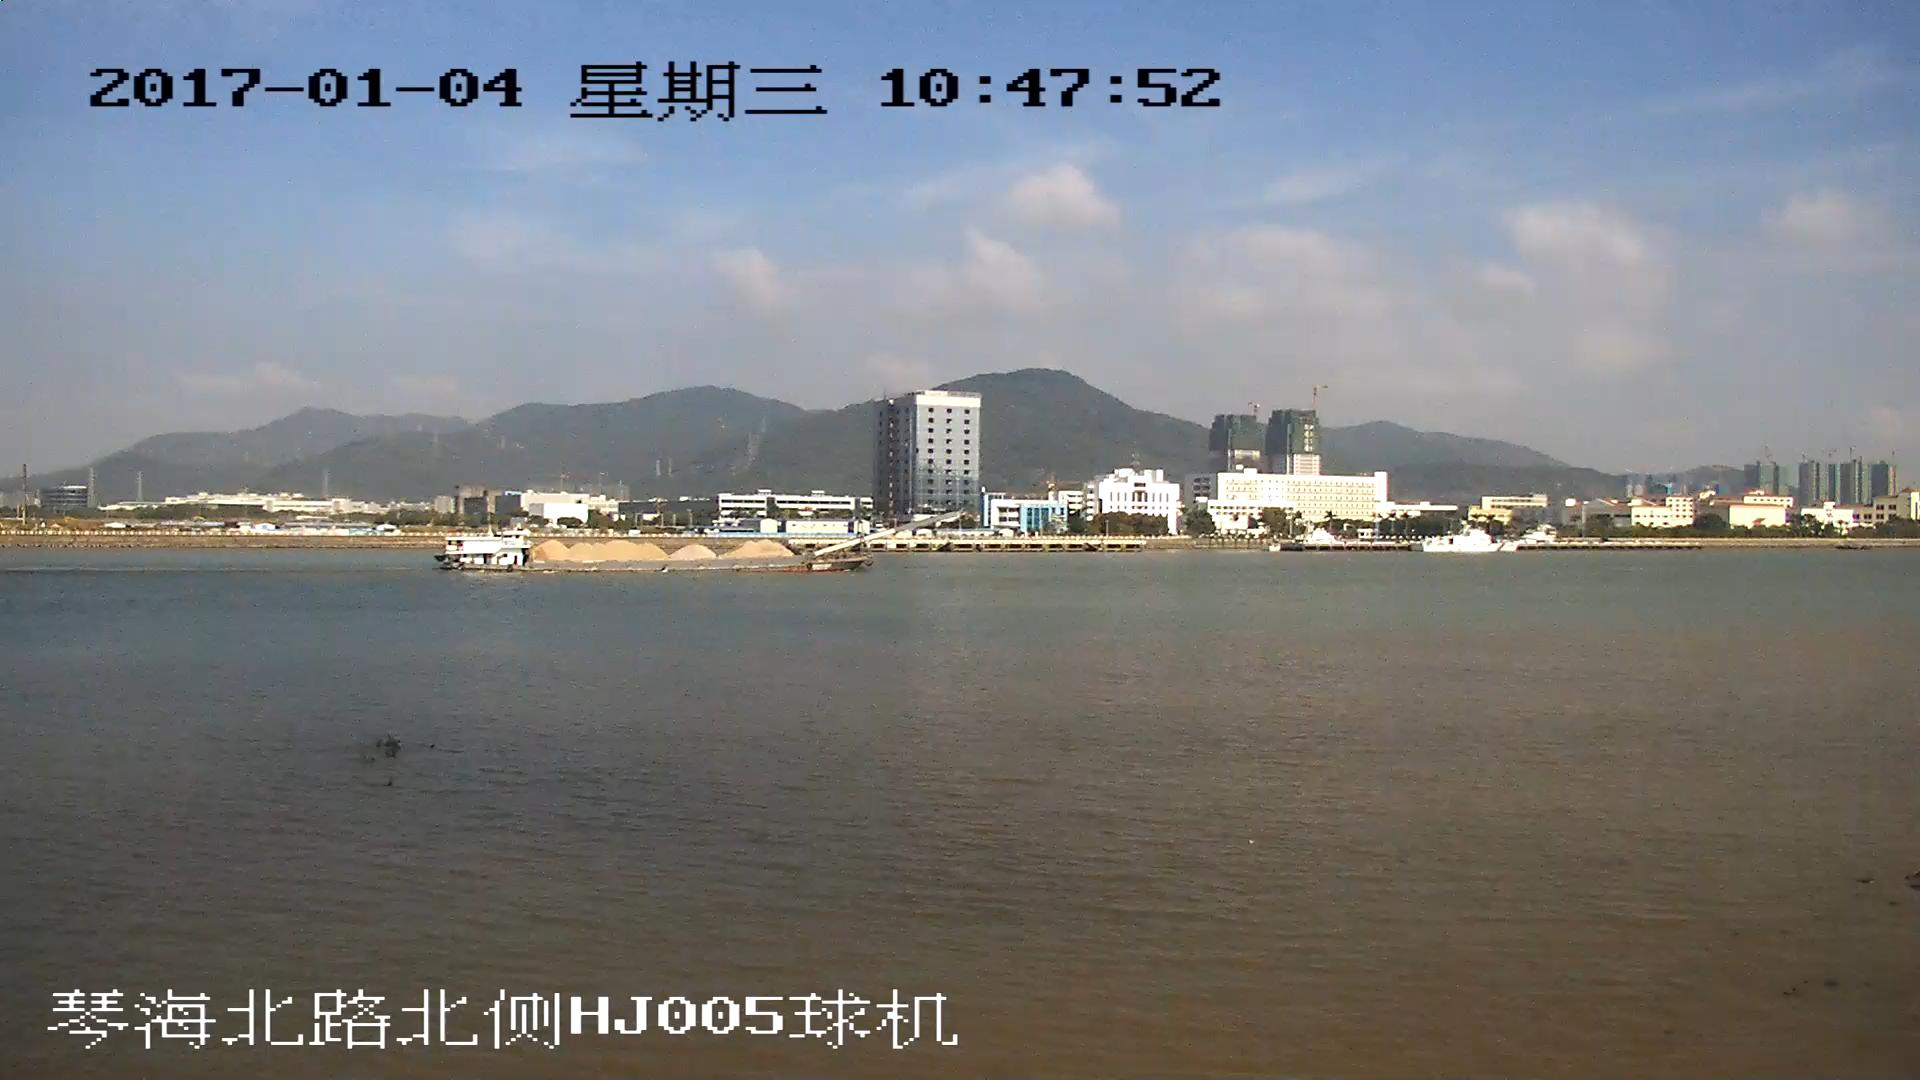ore carrier: (443, 509, 963, 574)
